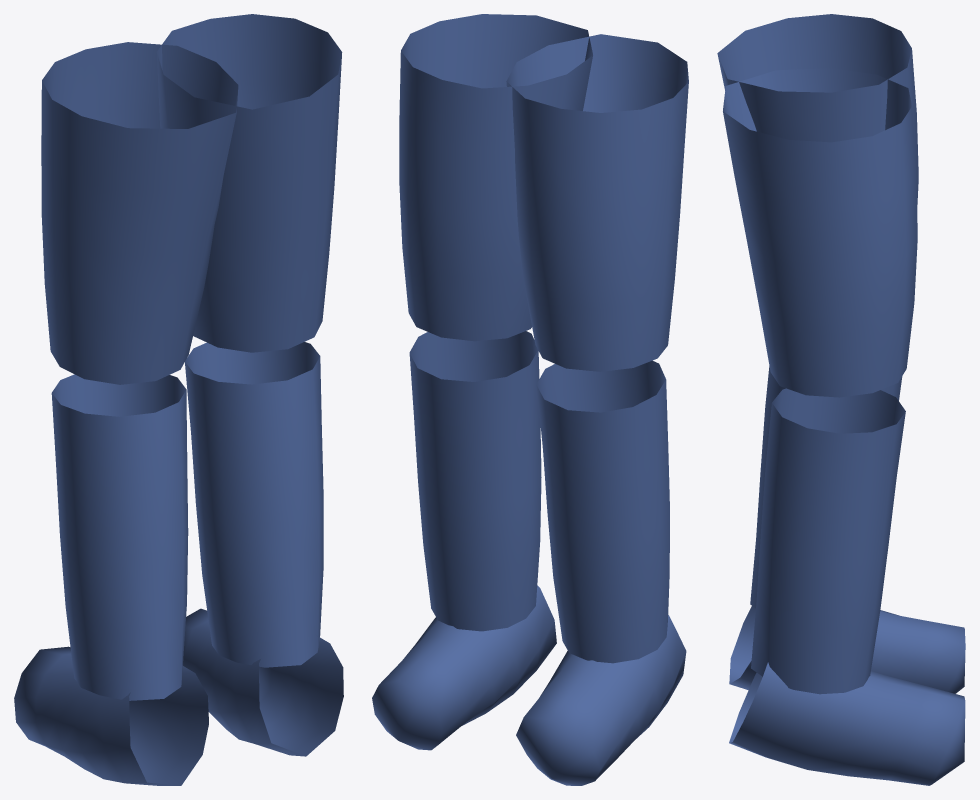
The model's file is spectre_pants.glb.
The picture shows the model from 3 angles, left to right: view 1: azimuth 30°, elevation 25°; view 2: azimuth 150°, elevation 25°; view 3: azimuth 270°, elevation 25°; orthographic projection. The views are drawn at different scales.
Parts seen in each view (by area): view 1: spectre_pants_cuisse.L; view 2: spectre_pants_cuisse.L; view 3: spectre_pants_cuisse.L.
Part boxes in pixels (x1,y1,x2,y2): spectre_pants_cuisse.L: (14,14,343,785); spectre_pants_cuisse.L: (372,14,688,785); spectre_pants_cuisse.L: (717,14,965,785).
Size of the model in its own units: 0.391 by 0.9483 by 0.3194.
